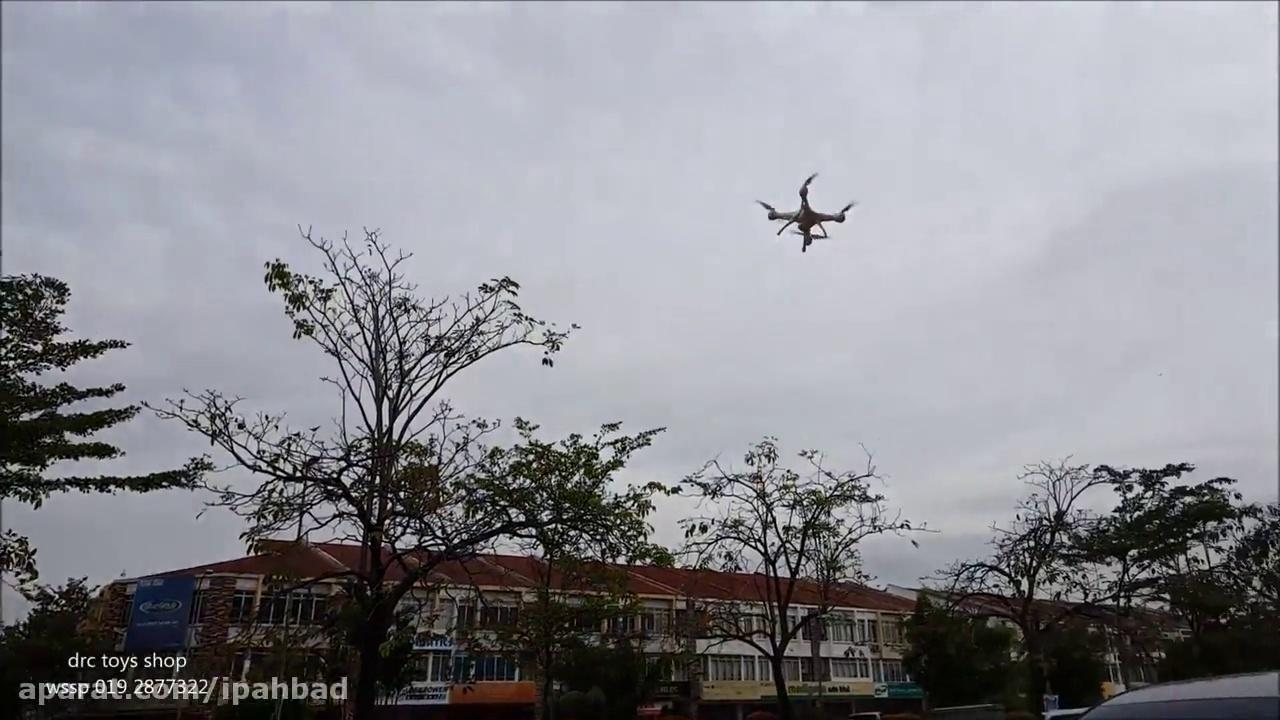drone: (751, 169, 860, 254)
